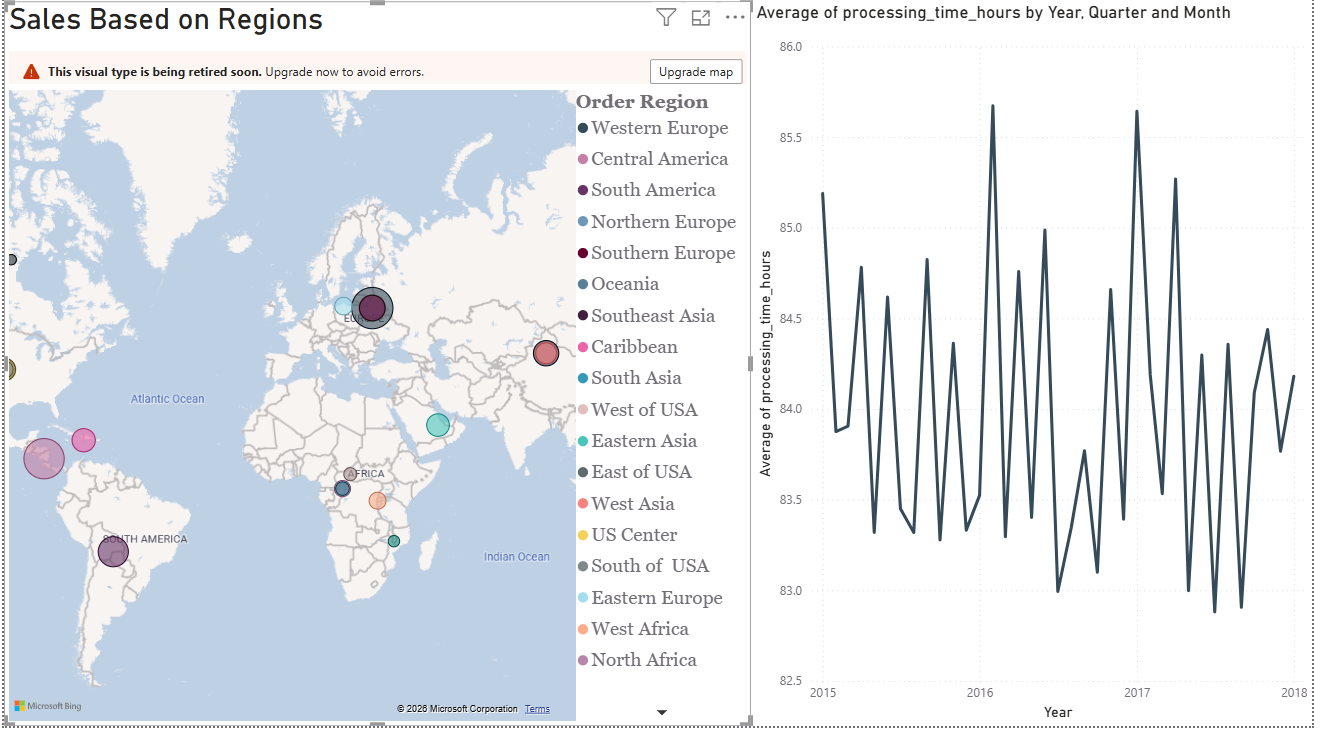

The dashboard page shown, as its layout file describes it:
{"tool":"powerbi","page":{"name":"Diagnostic Drill","canvas":[1280,720],"ordinal":1},"visuals":[{"type":"map","title":"Sales Based on Regions","fields":{"Category":["Cleaned_DataCo_SupplyChain.Order Region"],"Size":["Sum(Cleaned_DataCo_SupplyChain.Sales)"],"Series":["Cleaned_DataCo_SupplyChain.Order Region"]},"box":[0,11.2,731.2,708.8],"z":0},{"type":"lineChart","fields":{"Category":["Cleaned_DataCo_SupplyChain.order date (DateOrders).Variation.Date Hierarchy.Year","Cleaned_DataCo_SupplyChain.order date (DateOrders).Variation.Date Hierarchy.Quarter","Cleaned_DataCo_SupplyChain.order date (DateOrders).Variation.Date Hierarchy.Month","Cleaned_DataCo_SupplyChain.order date (DateOrders).Variation.Date Hierarchy.Day"],"Y":["Avg(Cleaned_DataCo_SupplyChain.processing_time_hours)"]},"box":[731.2,11.2,548.8,708.8],"z":1000}]}

Visuals, with their boxes in screenshot pixels (x1, y1, x2, y2), scaled from the page's 1280x720 canvas onto the 1336x736 screenshot:
"Sales Based on Regions" map: x1=0 y1=11 x2=763 y2=735
lineChart - Cleaned_DataCo_SupplyChain.order date (DateOrders).Variation.Date Hierarchy.Year x Cleaned_DataCo_SupplyChain.order date (DateOrders).Variation.Date Hierarchy.Quarter: x1=763 y1=11 x2=1335 y2=735
